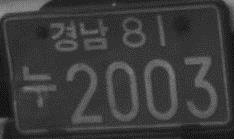0: (142, 57, 181, 121), (105, 60, 141, 122)
1: (152, 13, 170, 49)
2: (65, 60, 106, 125)
3: (182, 54, 220, 120)
8: (120, 14, 149, 49)
경남_O: (47, 17, 109, 52)
누: (20, 62, 58, 108)
